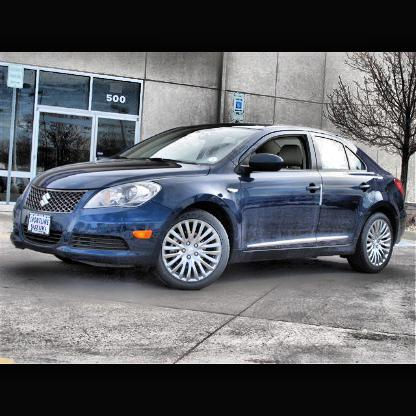Suzuki Kizashi Sedan 2012: (11, 122, 406, 288)
